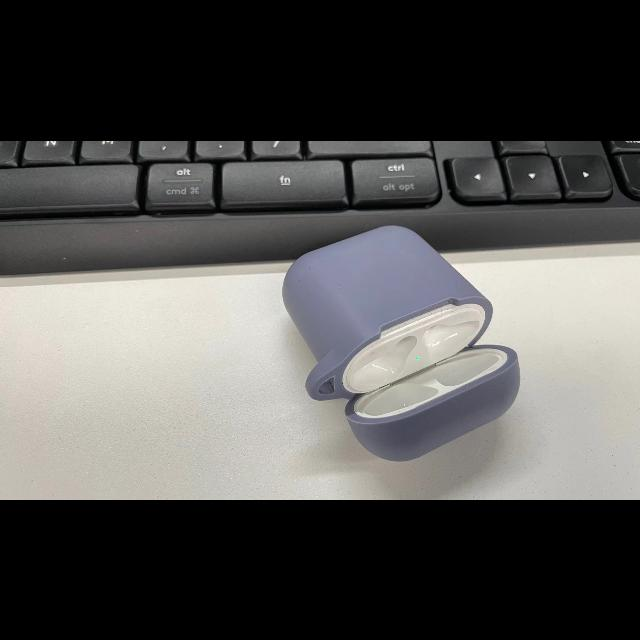airpods: (282, 225, 520, 461)
